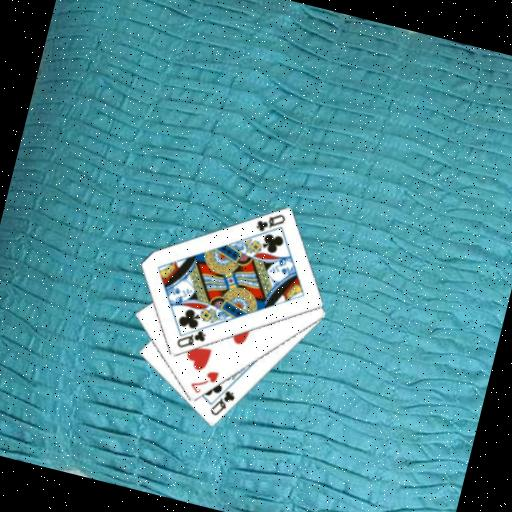7H: (185, 363, 221, 400)
QC: (172, 322, 209, 355), (206, 384, 238, 421), (251, 206, 288, 238)
